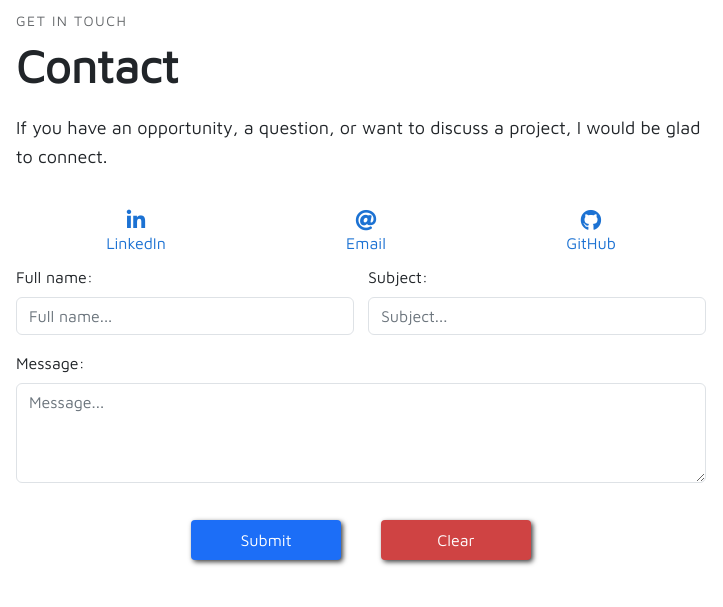
Test case: ContactForm › validates and shows a useful error message for empty submission
Click the button "Submit". click: (266, 540)
box: [191,520,341,560]
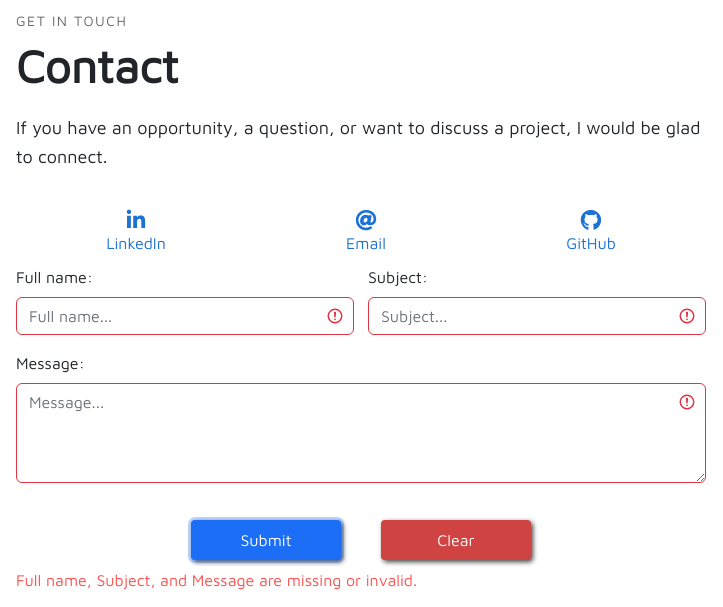
Now the text "Full name, Subject, and Message are missing or invalid." is shown, box [16,571,417,589]
